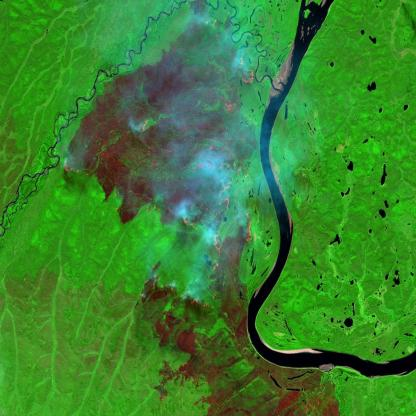fire: (62, 42, 260, 311)
